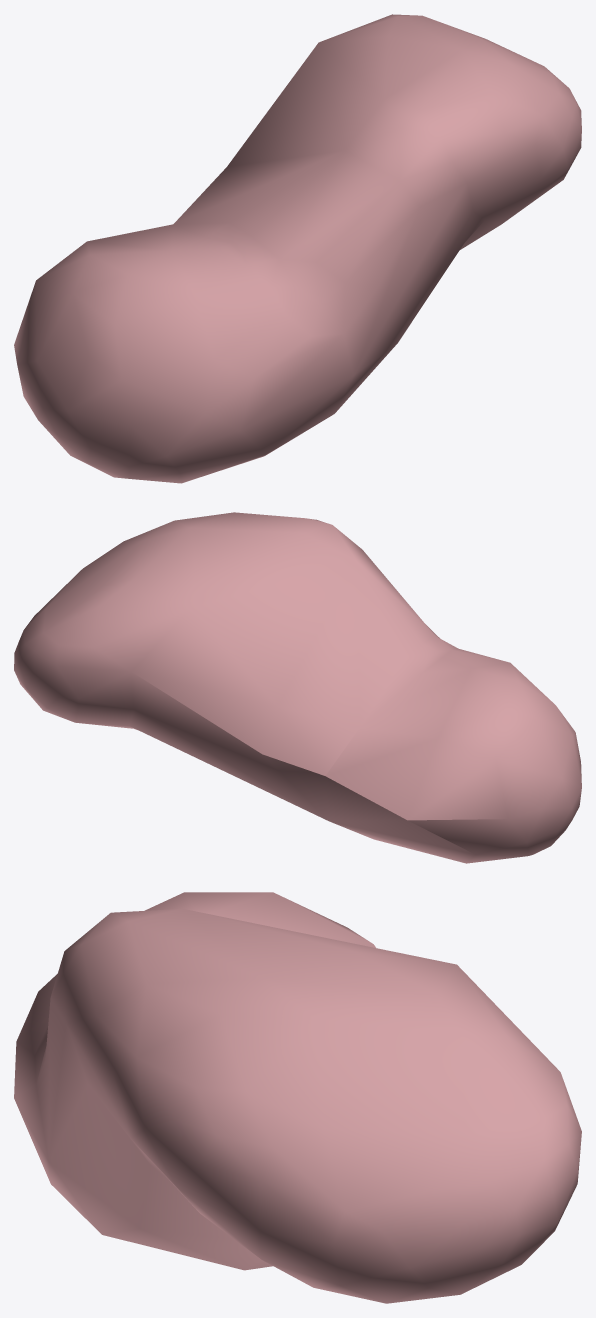
Rendered from fma14964_fj2603.glb.
The picture shows the model from 3 angles, top to bottom: view 1: azimuth 30°, elevation 25°; view 2: azimuth 150°, elevation 25°; view 3: azimuth 270°, elevation 25°; orthographic projection. The views are drawn at different scales.
Parts seen in each view (by area): view 1: FMA14964_FJ2603; view 2: FMA14964_FJ2603; view 3: FMA14964_FJ2603.
Boxes of the visible parts, left/top/right/bottom form: FMA14964_FJ2603: left=14, top=14, right=581, bottom=483; FMA14964_FJ2603: left=14, top=512, right=581, bottom=863; FMA14964_FJ2603: left=14, top=892, right=581, bottom=1303.
Bounding box in the file's own units: 0.0455 × 0.0241 × 0.0282.
